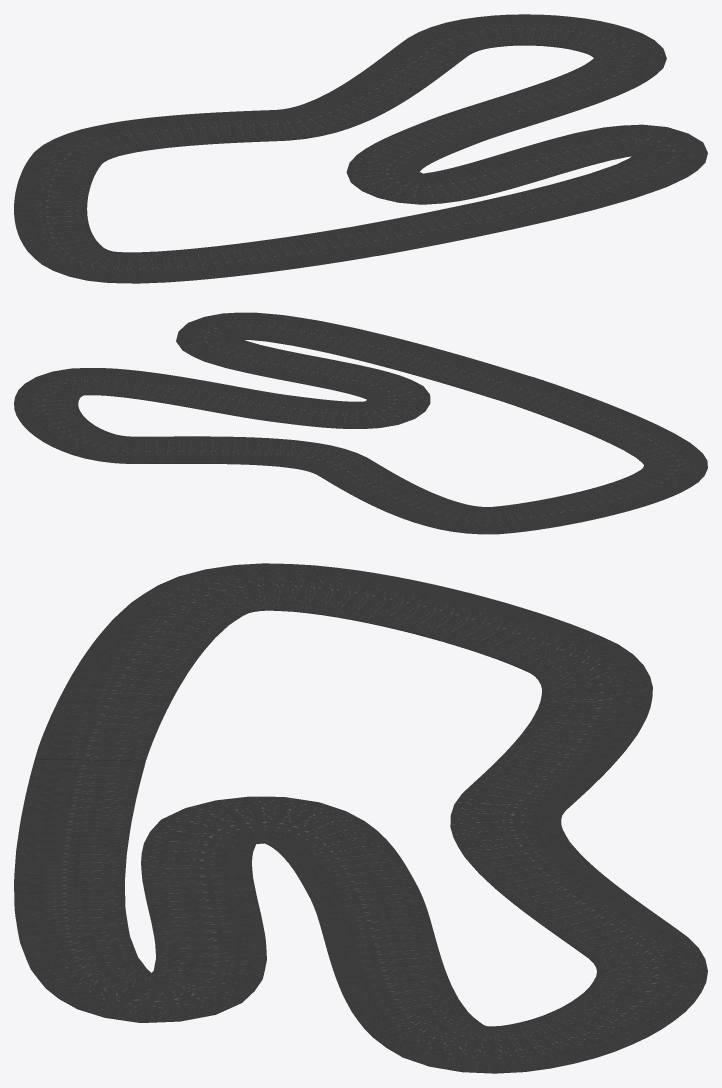
Rendered from Track.glb.
3 views of the same model, one above another, from view 1: azimuth 30°, elevation 25°; view 2: azimuth 150°, elevation 25°; view 3: azimuth 270°, elevation 25° (orthographic). The views are drawn at different scales.
Visible parts, largest first — view 1: Cube.001; view 2: Cube.001; view 3: Cube.001.
Boxes of the visible parts, <box> form: Cube.001: <box>14,14,707,283</box>; Cube.001: <box>14,312,707,534</box>; Cube.001: <box>14,563,707,1073</box>.
Size of the model in its own units: 128 by 0.0878 by 73.35.
1 material, 1 textured.
